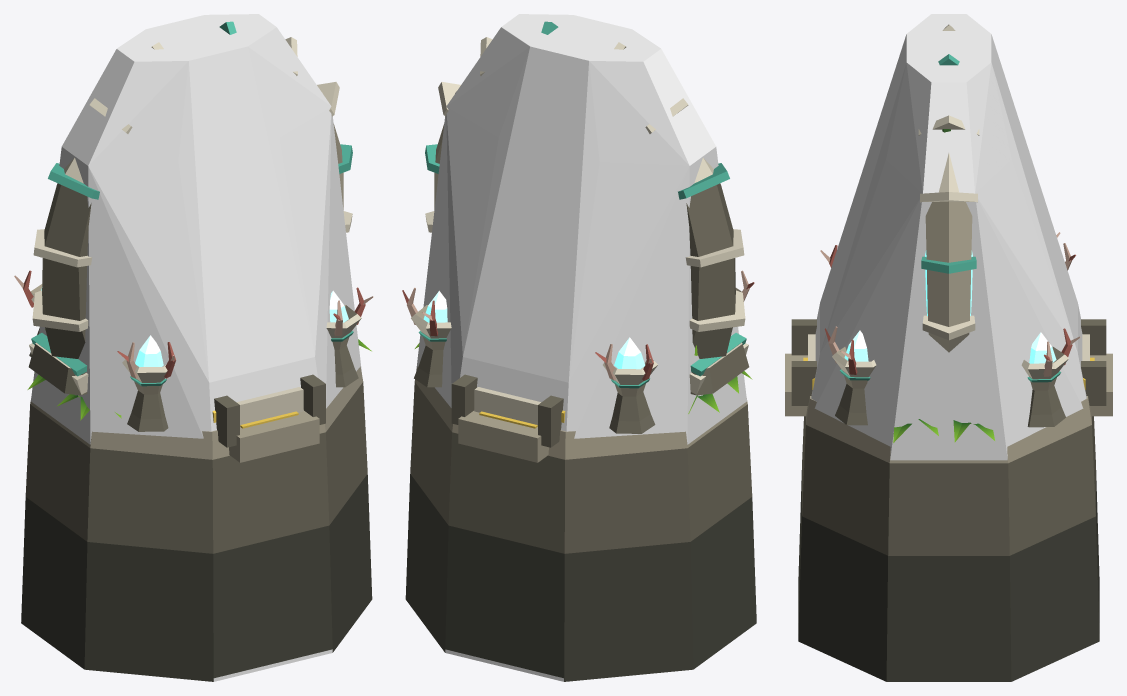
The model's file is ancient_abyssal_nautilus_shrine.glb.
3 views of the same model, side by side, from view 1: azimuth 30°, elevation 25°; view 2: azimuth 150°, elevation 25°; view 3: azimuth 270°, elevation 25° (orthographic).
Visible parts, largest first — view 1: ancient_abyssal_nautilus_shrine, col_nautilusshrine_base; view 2: ancient_abyssal_nautilus_shrine, col_nautilusshrine_base; view 3: ancient_abyssal_nautilus_shrine, col_nautilusshrine_base.
Boxes of the visible parts, x1,y1,x2,y2 form: ancient_abyssal_nautilus_shrine: (14, 21, 373, 681); col_nautilusshrine_base: (31, 14, 361, 681); ancient_abyssal_nautilus_shrine: (402, 21, 756, 681); col_nautilusshrine_base: (416, 14, 746, 681); ancient_abyssal_nautilus_shrine: (785, 24, 1112, 681); col_nautilusshrine_base: (811, 14, 1086, 460).
Size of the model in its own units: 4.91 by 8.53 by 4.42.
